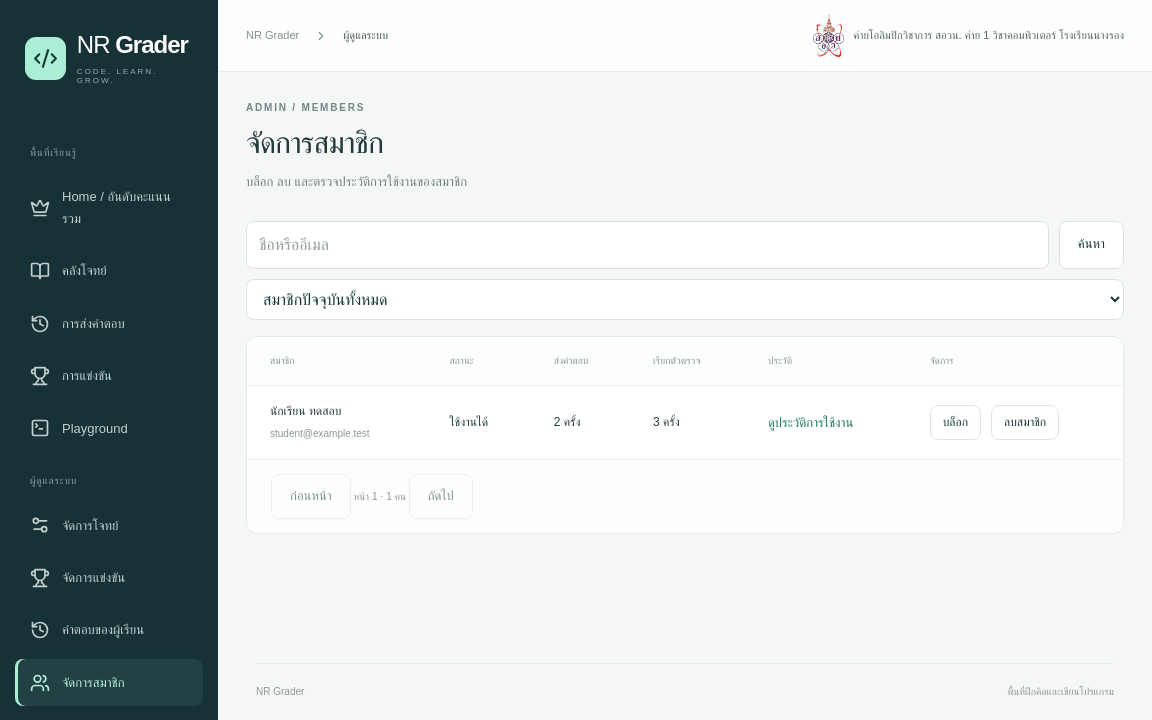
Test: NR Grader user workflows › confirms permanent member deletion and removes the member from the list
The width and height of the screenshot is (1152, 720).
Click the button "ลบสมาชิก" at (1025, 423), box [991,405,1059,440]
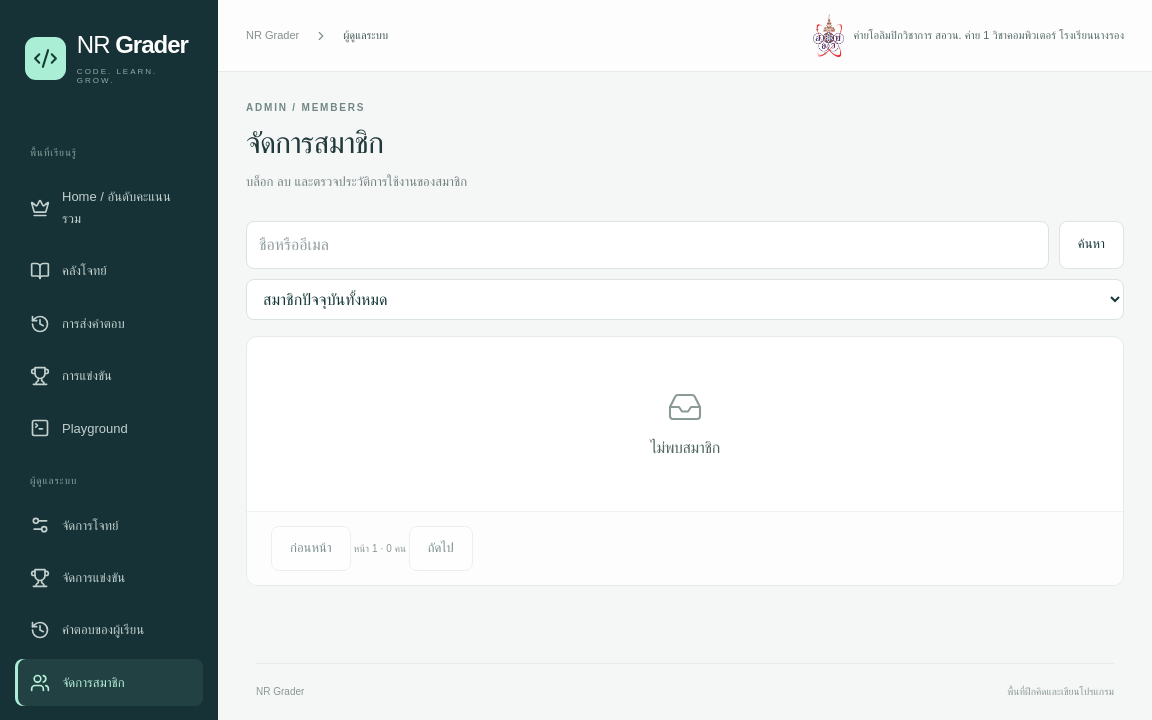
expect the heading "ไม่พบสมาชิก" is shown: met, box [650,437,720,459]
expect the button "ลบสมาชิก" is gone: met
